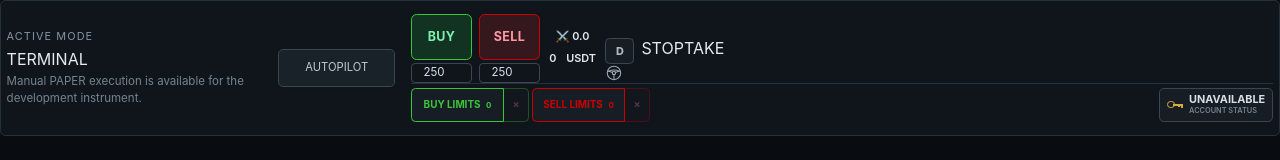
Test: ModePanel PAPER Market amounts › shows the sizing-precision failure in Russian
Click the button "BUY".
click(442, 37)  # box [411,14,472,60]
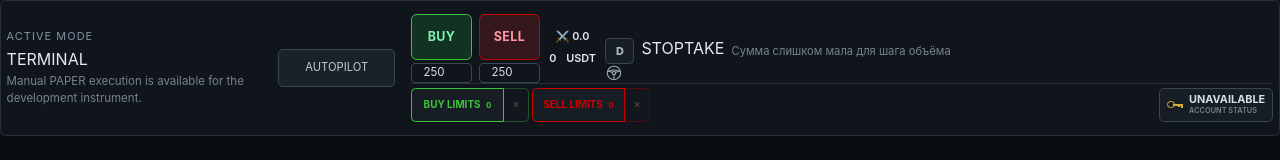
Check: the text "Сумма слишком мала для шага объёма" is shown, box [732,43,951,60]
